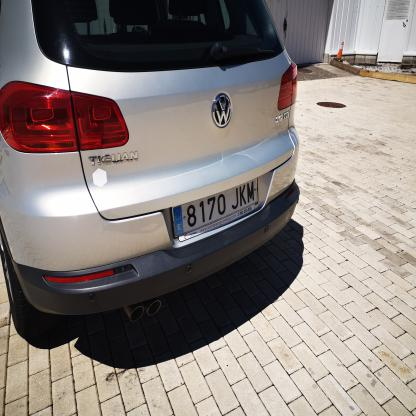patente: (172, 180, 261, 244)
